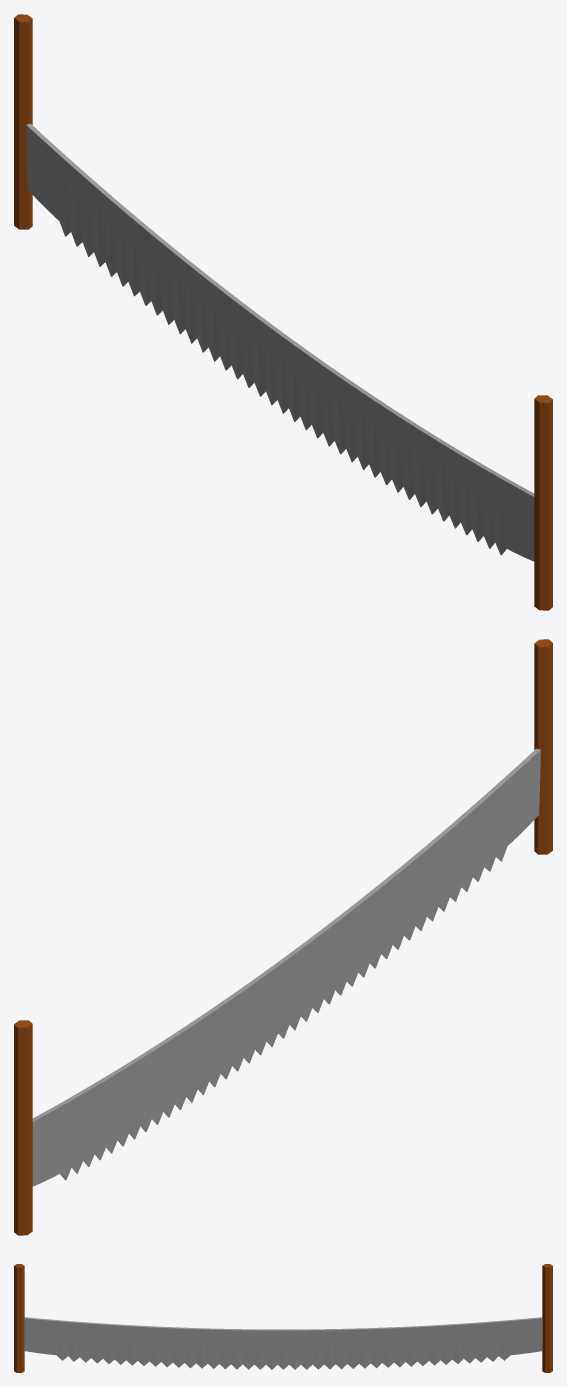
File: Saw.fbx
The picture shows the model from 3 angles, top to bottom: view 1: azimuth 30°, elevation 25°; view 2: azimuth 150°, elevation 25°; view 3: azimuth 270°, elevation 25°; orthographic projection. The views are drawn at different scales.
Parts seen in each view (by area): view 1: Saw; view 2: Saw; view 3: Saw.
Boxes of the visible parts, box(x1,y1,x2,y2) form: Saw: box(14, 14, 552, 610); Saw: box(14, 639, 552, 1235); Saw: box(14, 1264, 552, 1372).
Size of the model in its own units: 9.81 by 145 by 672.
